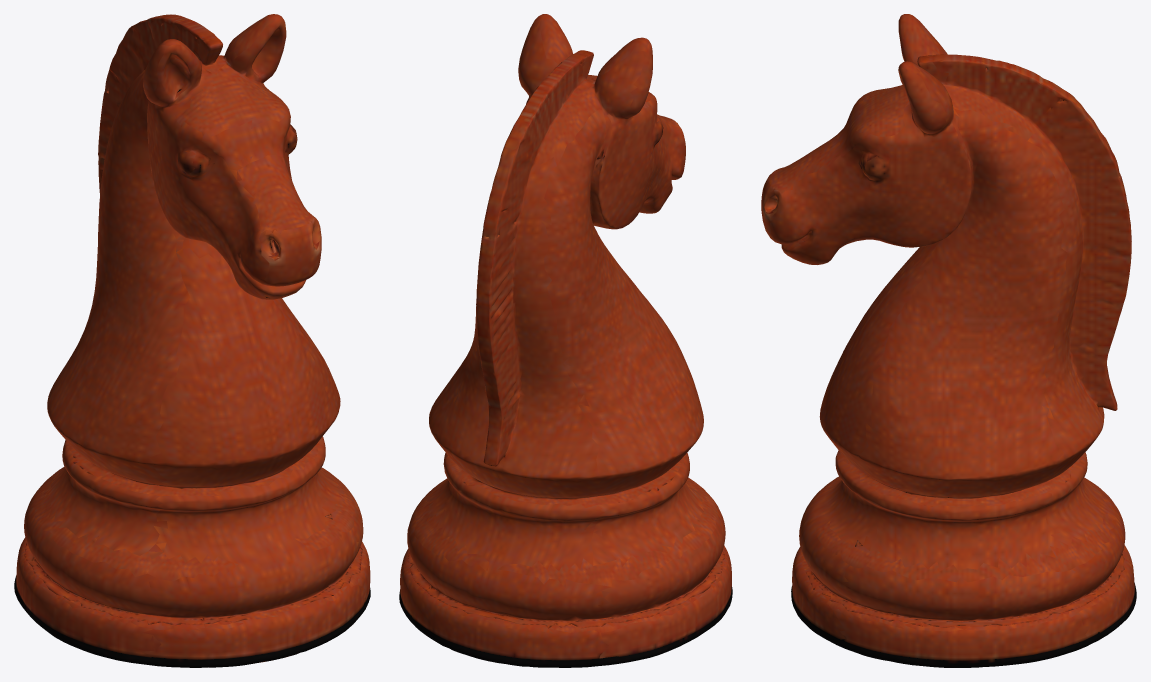
The model's file is knight.glb.
3 renders of one model, left to right at view 1: azimuth 30°, elevation 25°; view 2: azimuth 150°, elevation 25°; view 3: azimuth 270°, elevation 25°, orthographic. The views are drawn at different scales.
Bounding box in the file's own units: 0.5419 × 1 × 0.6086.
1 material, 1 textured.
